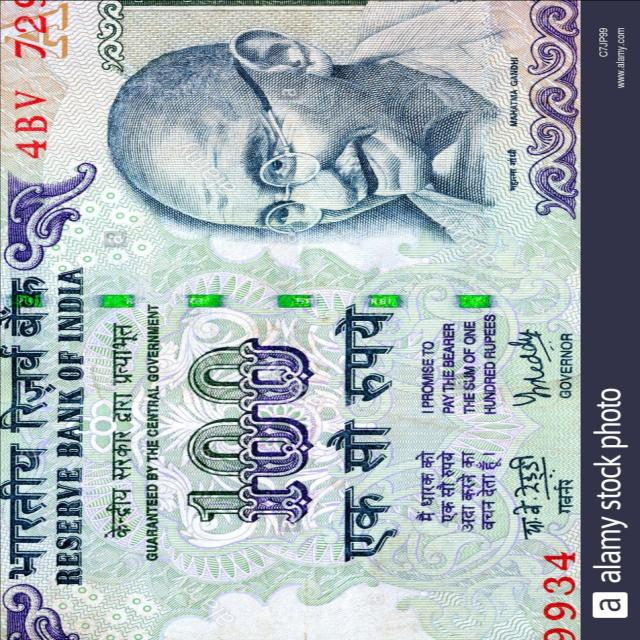100IndianRupees: (12, 1, 566, 634)
